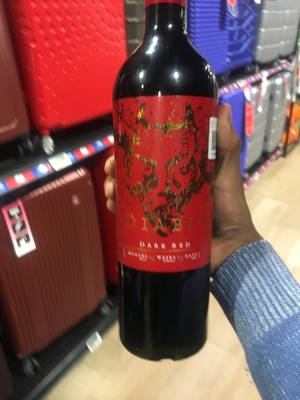diablo dark red: (103, 12, 239, 366)
